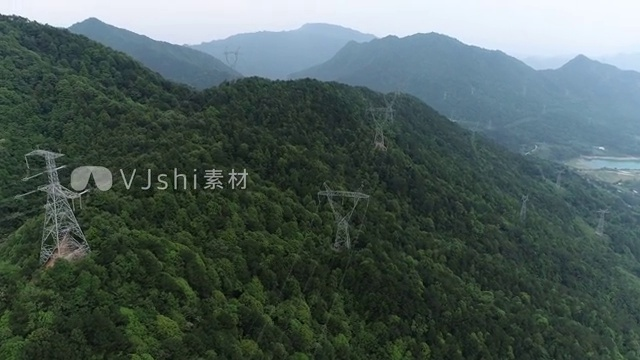tower_body: (17, 143, 93, 266), (310, 177, 376, 255)
tower_foot: (39, 232, 92, 263), (330, 226, 352, 252)
tower_head: (315, 182, 371, 217), (21, 148, 66, 170)
